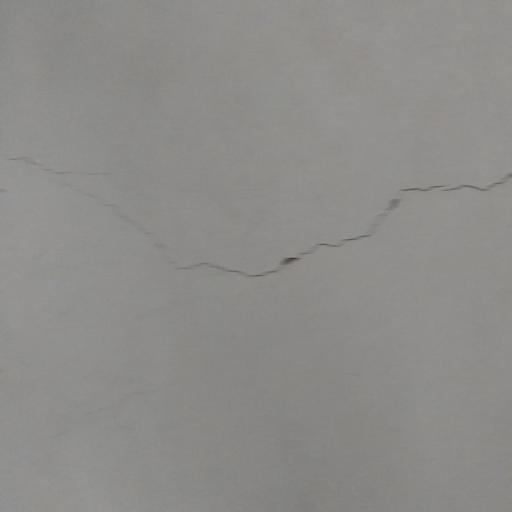minor_crack: (3, 135, 512, 287)
